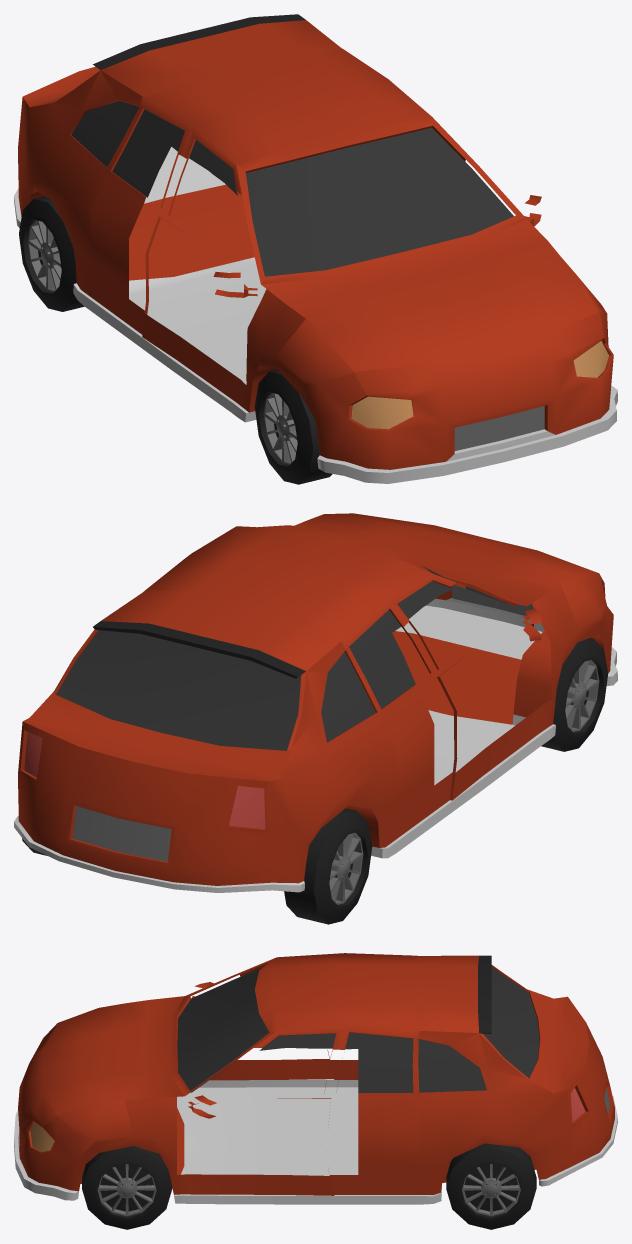
File: sedan2-body.glb
The picture shows the model from 3 angles, top to bottom: view 1: azimuth 30°, elevation 25°; view 2: azimuth 150°, elevation 25°; view 3: azimuth 270°, elevation 25°; orthographic projection. The views are drawn at different scales.
Bounding box in the file's own units: 1.6 × 1.15 × 3.31.
Materials: 1 (1 with a texture image).
